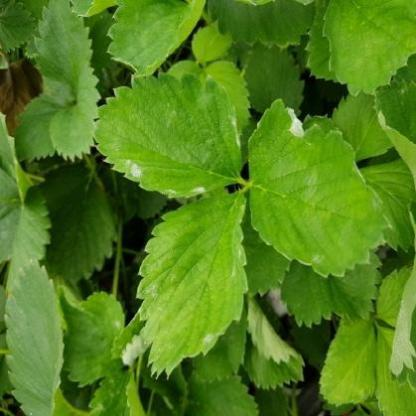Strawberry_Powdery_Mildew_Leaf: (246, 97, 392, 279), (135, 192, 249, 380), (90, 70, 244, 199), (56, 285, 126, 388), (87, 371, 145, 415)
